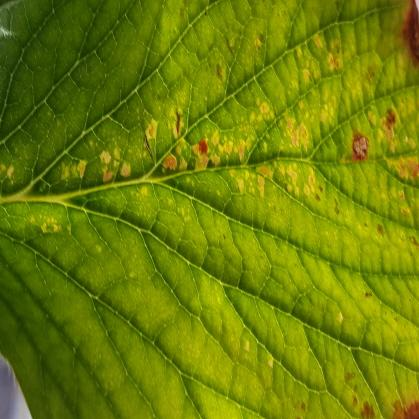Angular Leafspot: (0, 0, 418, 418)
